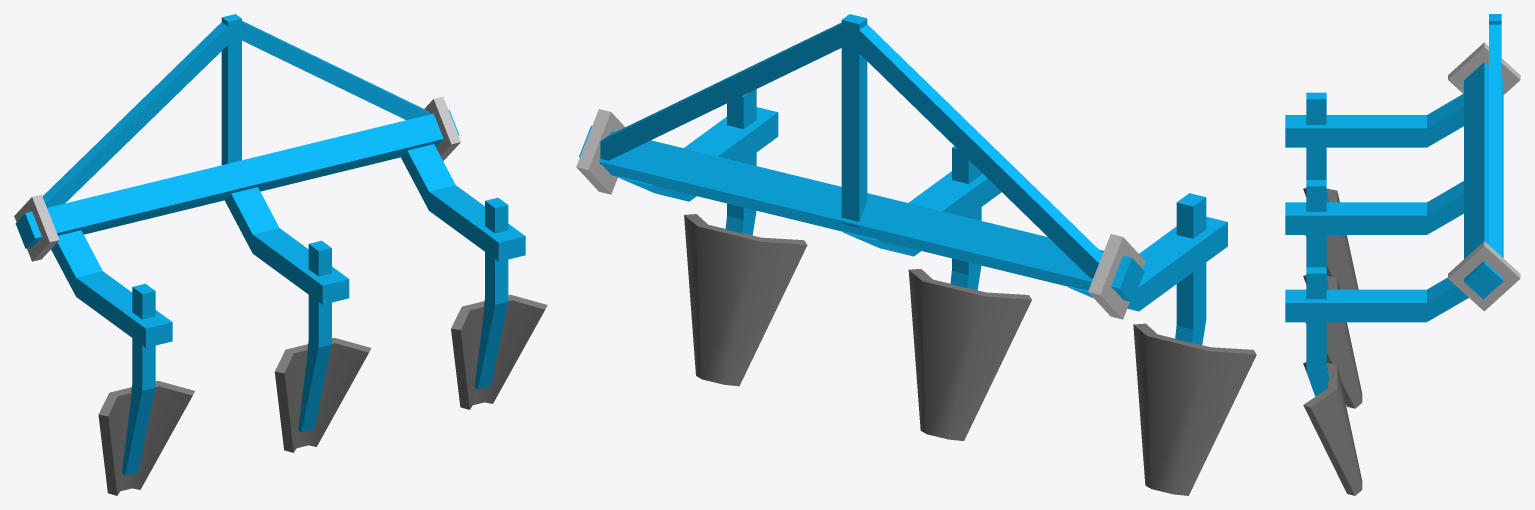
File: Plow_3.FBX
The picture shows the model from 3 angles, left to right: view 1: azimuth 30°, elevation 25°; view 2: azimuth 150°, elevation 25°; view 3: azimuth 270°, elevation 25°; orthographic projection. The views are drawn at different scales.
Parts seen in each view (by area): view 1: Plow_3; view 2: Plow_3; view 3: Plow_3.
Boxes of the visible parts, box(x1,y1,x2,y2) form: Plow_3: box(14, 14, 547, 495); Plow_3: box(576, 14, 1256, 495); Plow_3: box(1285, 14, 1520, 495).
Bounding box in the file's own units: 1.43 × 1.15 × 0.6407.
1 material, 1 textured.
